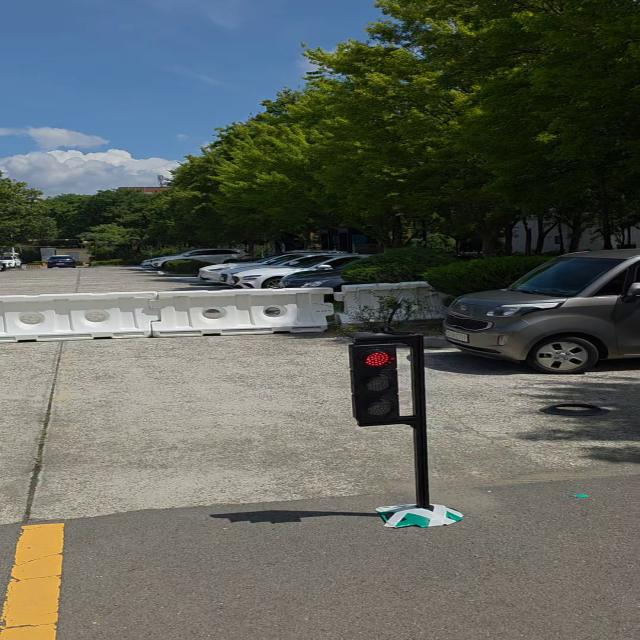red: (349, 344, 402, 425)
